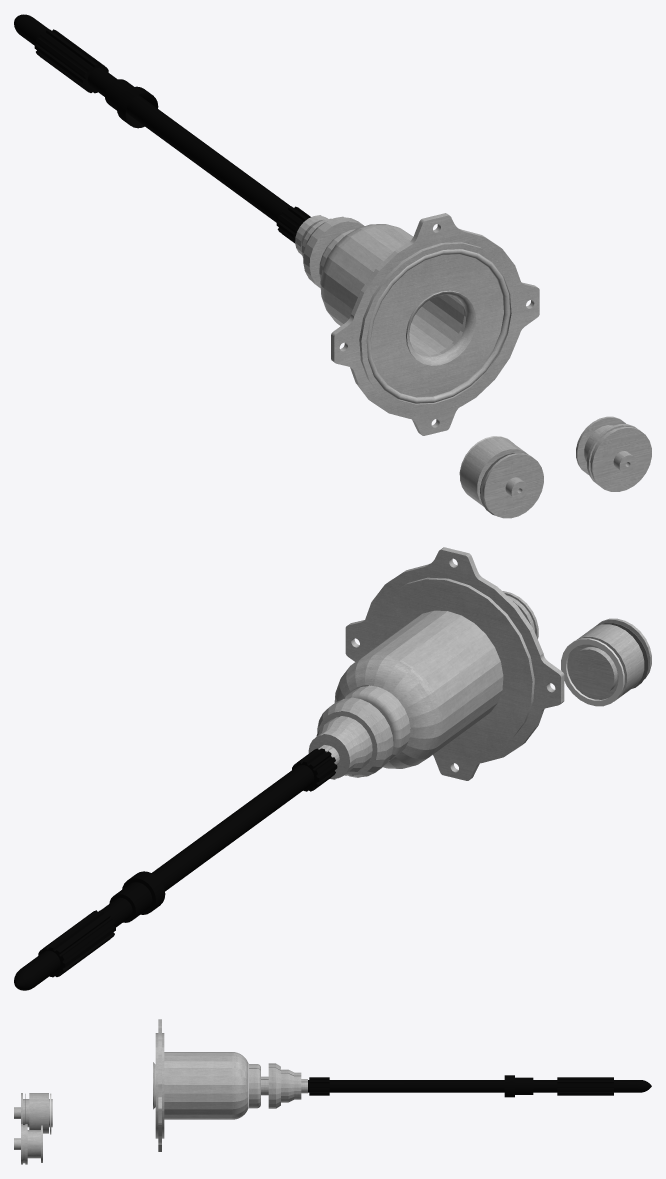
The picture shows the model from 3 angles, top to bottom: view 1: azimuth 30°, elevation 25°; view 2: azimuth 150°, elevation 25°; view 3: azimuth 270°, elevation 25°; orthographic projection. The views are drawn at different scales.
Visible parts, largest first — view 1: slongsong, 3, 4; view 2: slongsong, 3, 1; view 3: slongsong, 3, 4.
Part boxes in pixels (x1,y1,x2,y2): slongsong: (14, 14, 539, 435); 3: (460, 437, 543, 518); 4: (576, 416, 651, 491); slongsong: (14, 547, 564, 990); 3: (567, 618, 651, 701); 1: (561, 638, 624, 706); slongsong: (153, 1019, 651, 1151); 3: (14, 1093, 52, 1133); 4: (14, 1124, 42, 1164).
Size of the model in its own units: 257 by 257 by 1177.
Materials: 7 (3 with a texture image).
